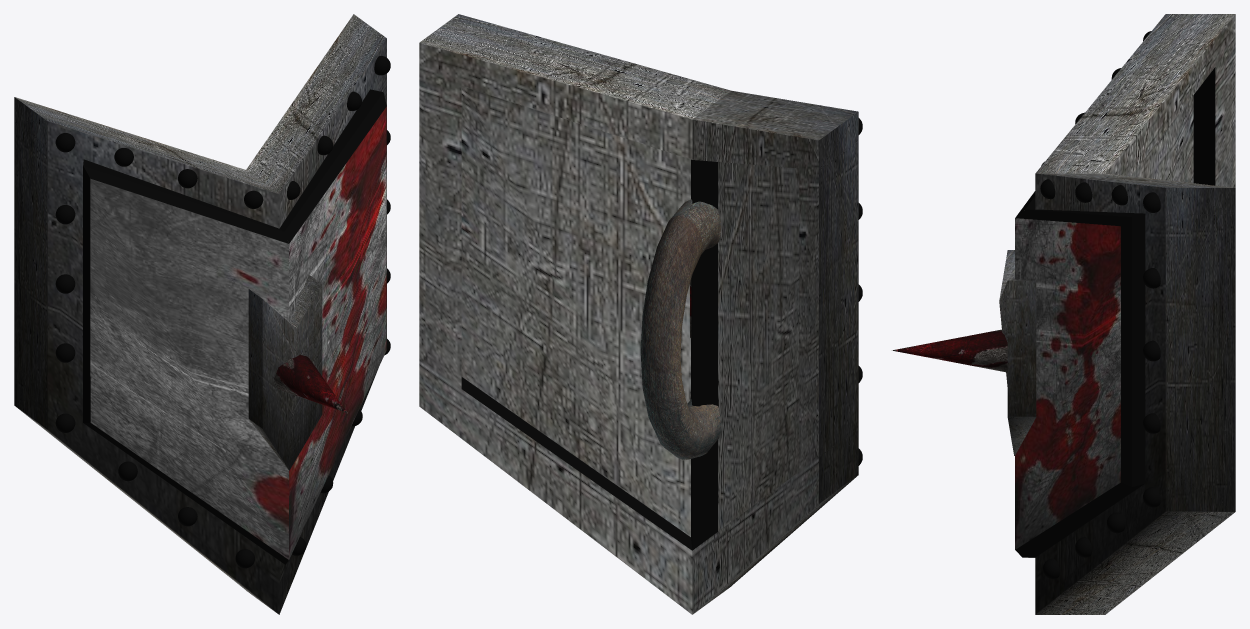
The model's file is Shield Object.fbx.
3 views of the same model, side by side, from view 1: azimuth 30°, elevation 25°; view 2: azimuth 150°, elevation 25°; view 3: azimuth 270°, elevation 25° (orthographic). The views are drawn at different scales.
Parts seen in each view (by area): view 1: polySurface132; view 2: polySurface132; view 3: polySurface132.
Boxes of the visible parts, left/top/right/bottom form: polySurface132: left=14, top=14, right=390, bottom=614; polySurface132: left=419, top=14, right=862, bottom=614; polySurface132: left=891, top=14, right=1235, bottom=614.
Bounding box in the file's own units: 495 × 683 × 415.
